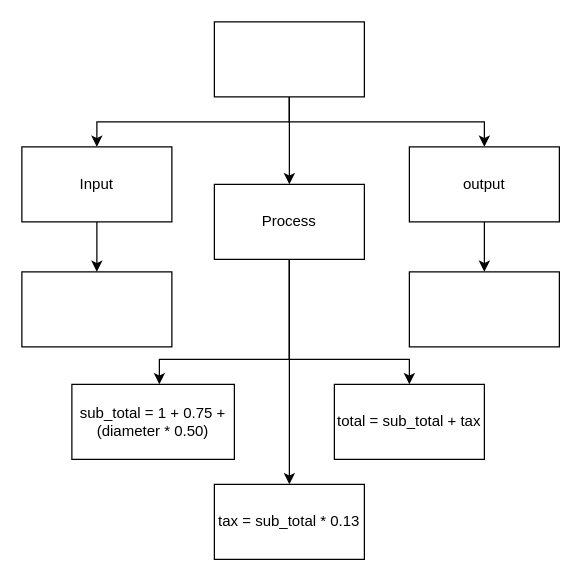
Image size: 581x581. Some labels were removed from this diagram. The centre of each missing label's shape, as x and y in pixels:
"Circumference" goes at point (288, 59).
"Display total" goes at point (483, 309).
"Get diamater" goes at point (96, 309).
